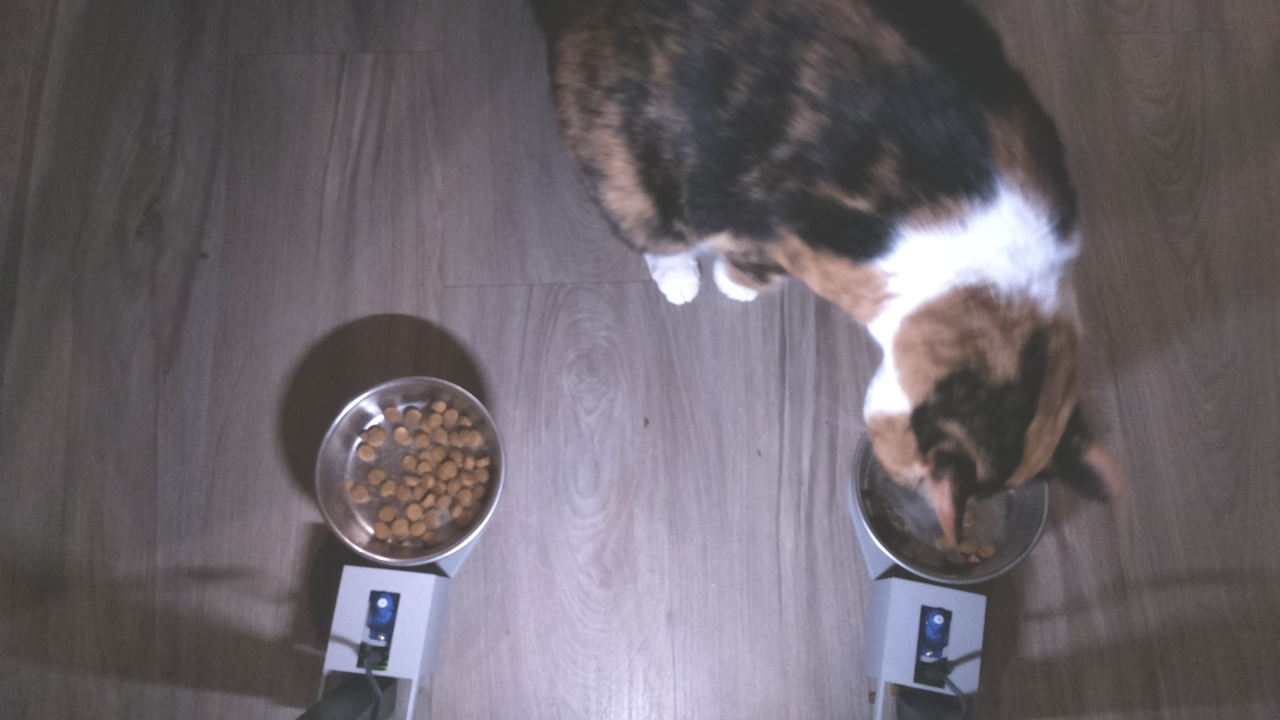bella_eating: (834, 290, 1123, 594)
open_bowl: (311, 370, 516, 573)
